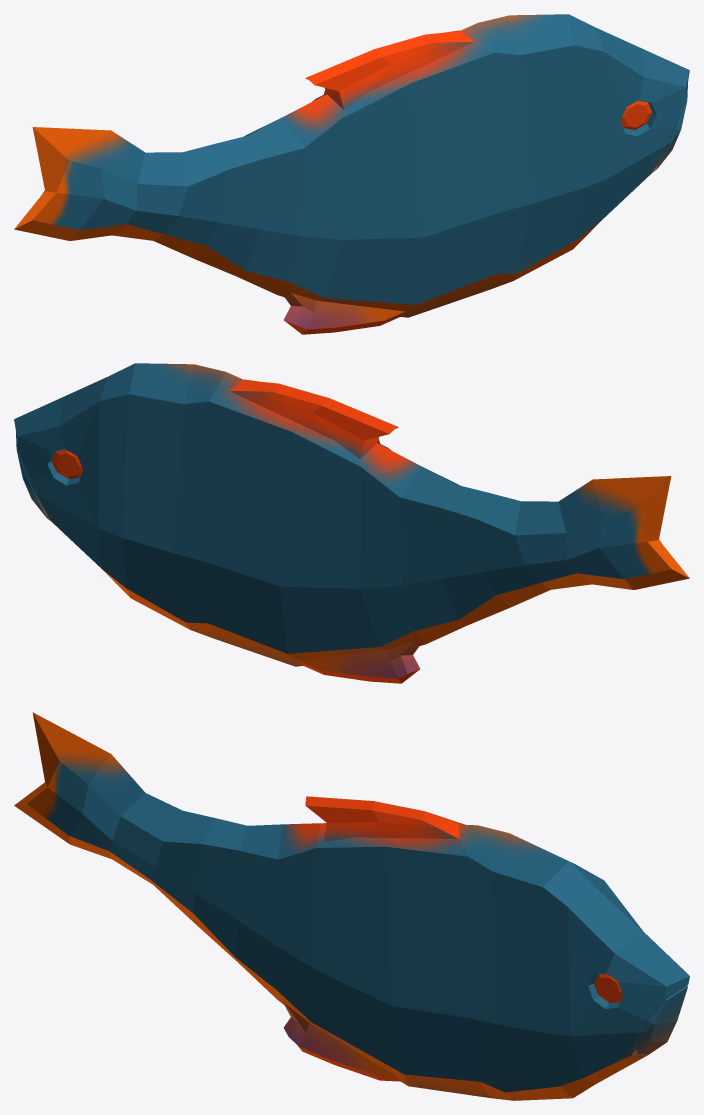
Rendered from Paranthias_colonus.glb.
3 renders of one model, top to bottom at view 1: azimuth 30°, elevation 25°; view 2: azimuth 150°, elevation 25°; view 3: azimuth 330°, elevation 25°, orthographic.
Parts seen in each view (by area): view 1: FishV1; view 2: FishV1; view 3: FishV1.
Part boxes in pixels (x1,y1,x2,y2): FishV1: (14, 14, 689, 334); FishV1: (14, 363, 689, 683); FishV1: (14, 712, 689, 1100).
Size of the model in its own units: 0.7706 by 0.3091 by 0.0722.
1 material, 1 textured.
